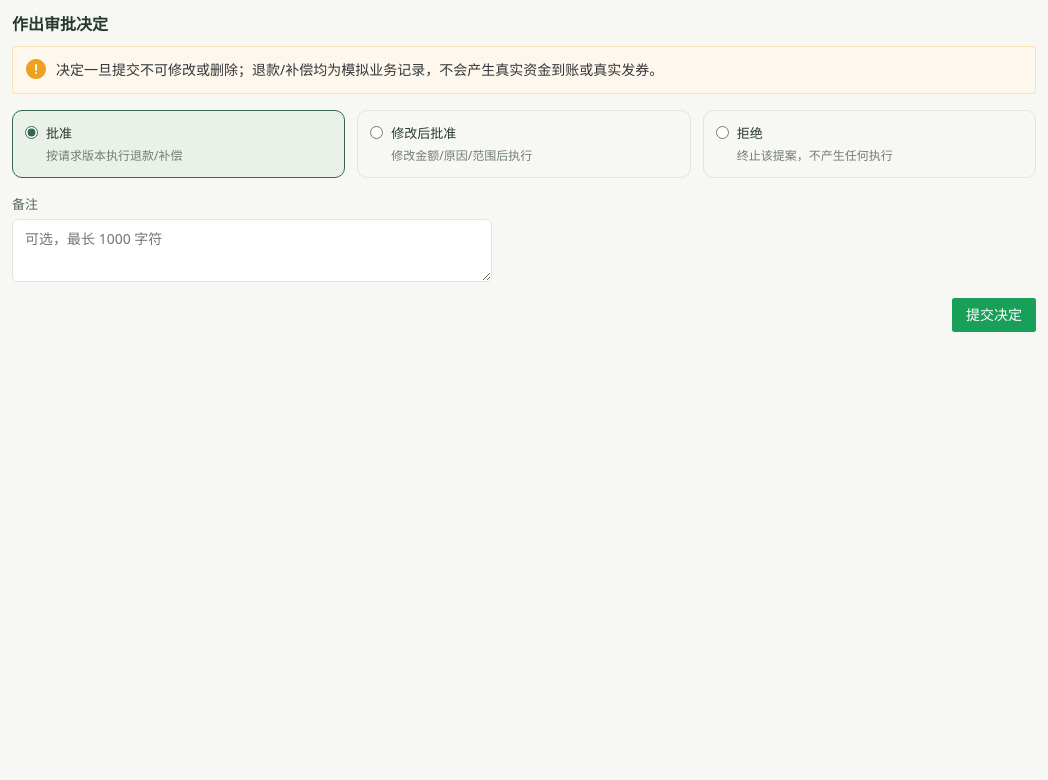
DecisionForm 决定载荷 › 未发生实际变化时禁止提交并给出提示
The image size is (1048, 780).
Click the radio button with test id "mode-approved_with_changes".
click(377, 132)  # box [370,126,383,139]
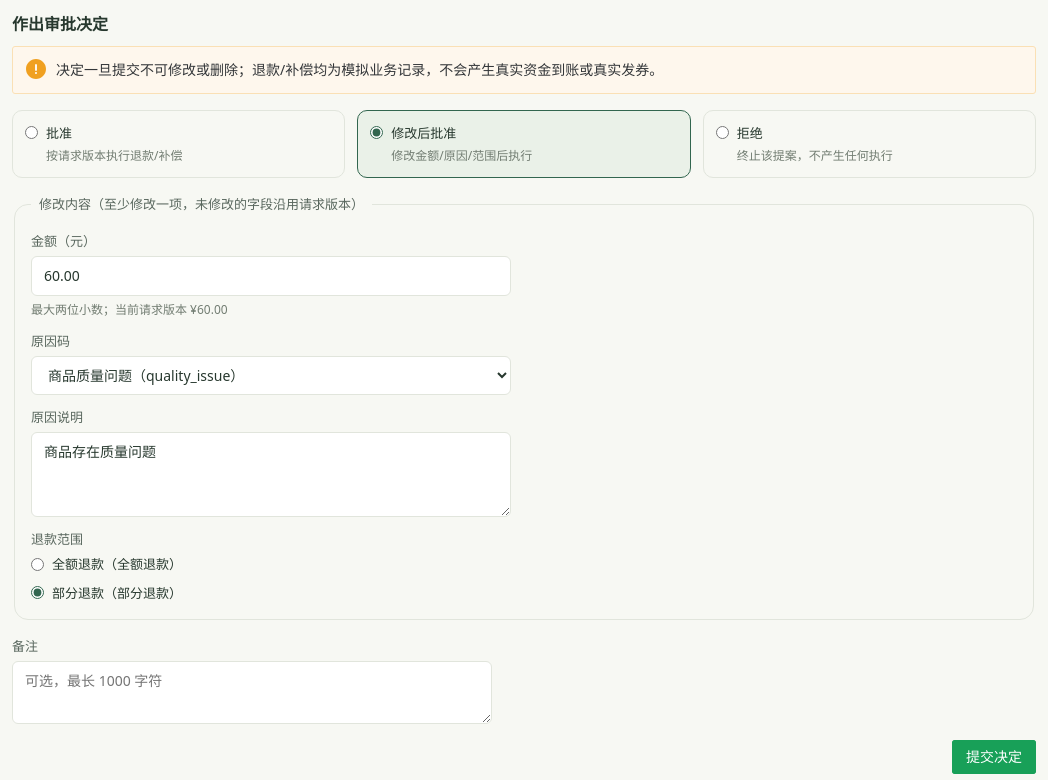
Click the button with test id "submit-decision".
click(994, 757)  # box [952,740,1036,774]
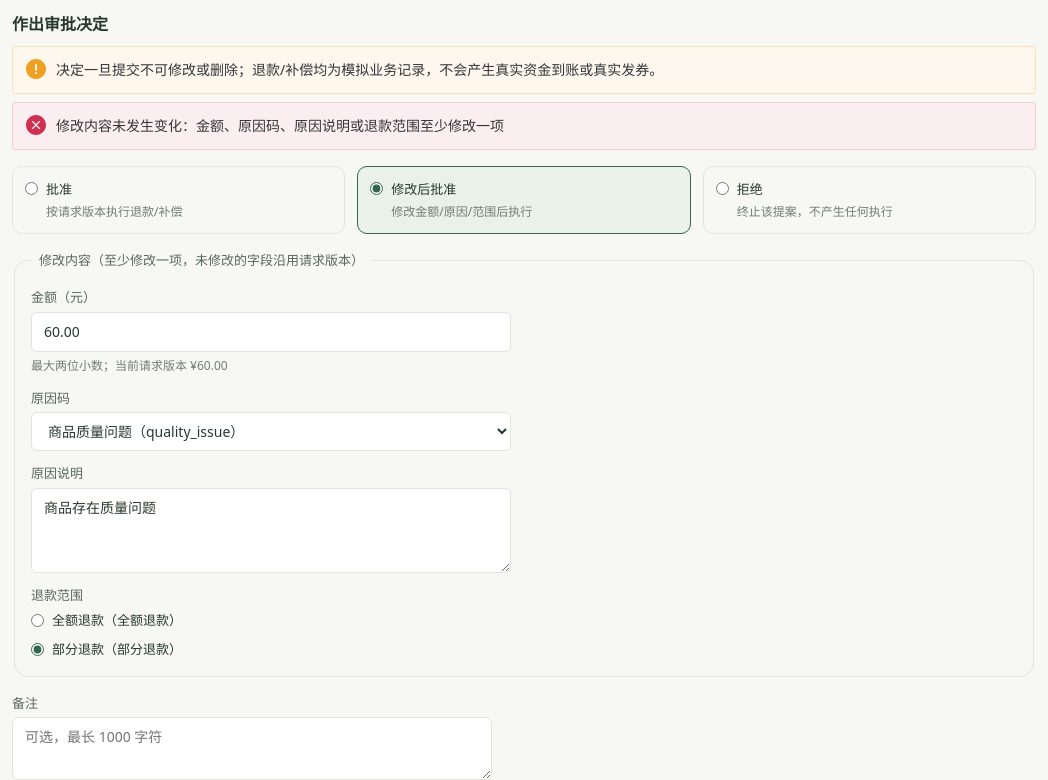
Check: the text "至少修改一项" is shown, box [56,116,504,135]
Check: the message "修改内容未发生变化：金额、原因码、原因说明或退款范围至少修改一项" is shown, box [12,102,1036,150]
